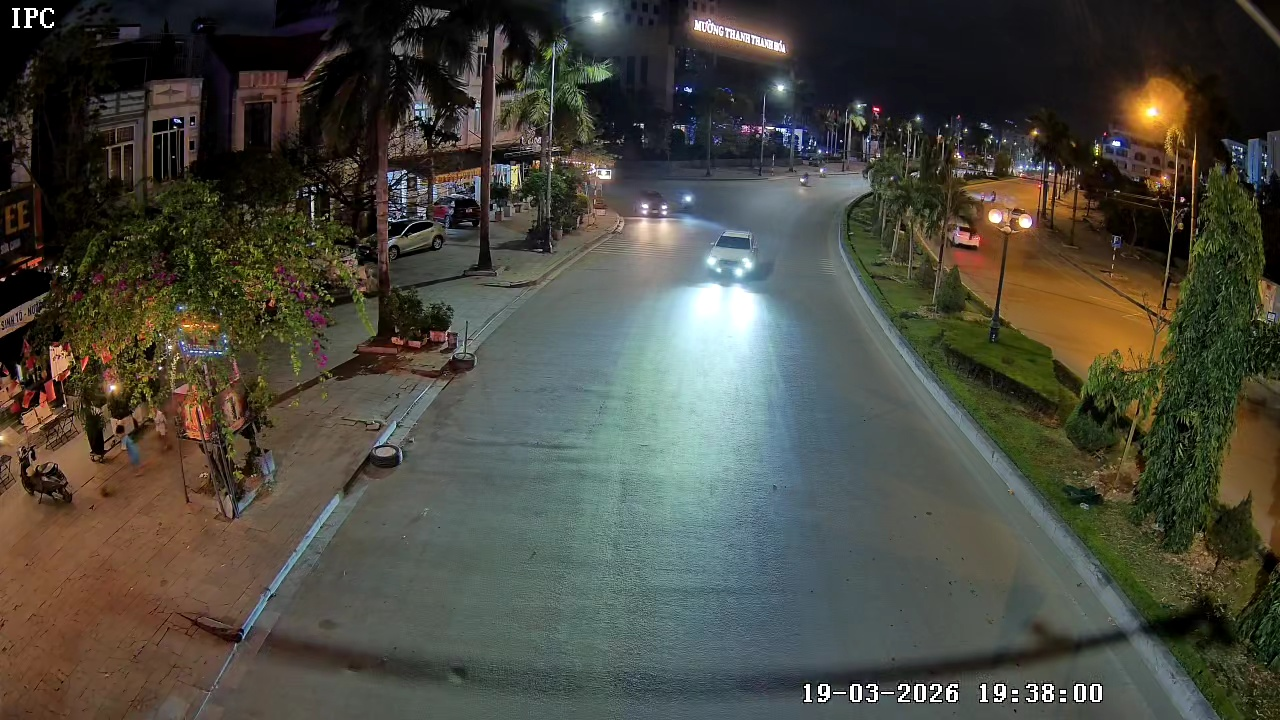car: (704, 226, 769, 285), (636, 189, 667, 220)
motorbike: (17, 445, 76, 508)
